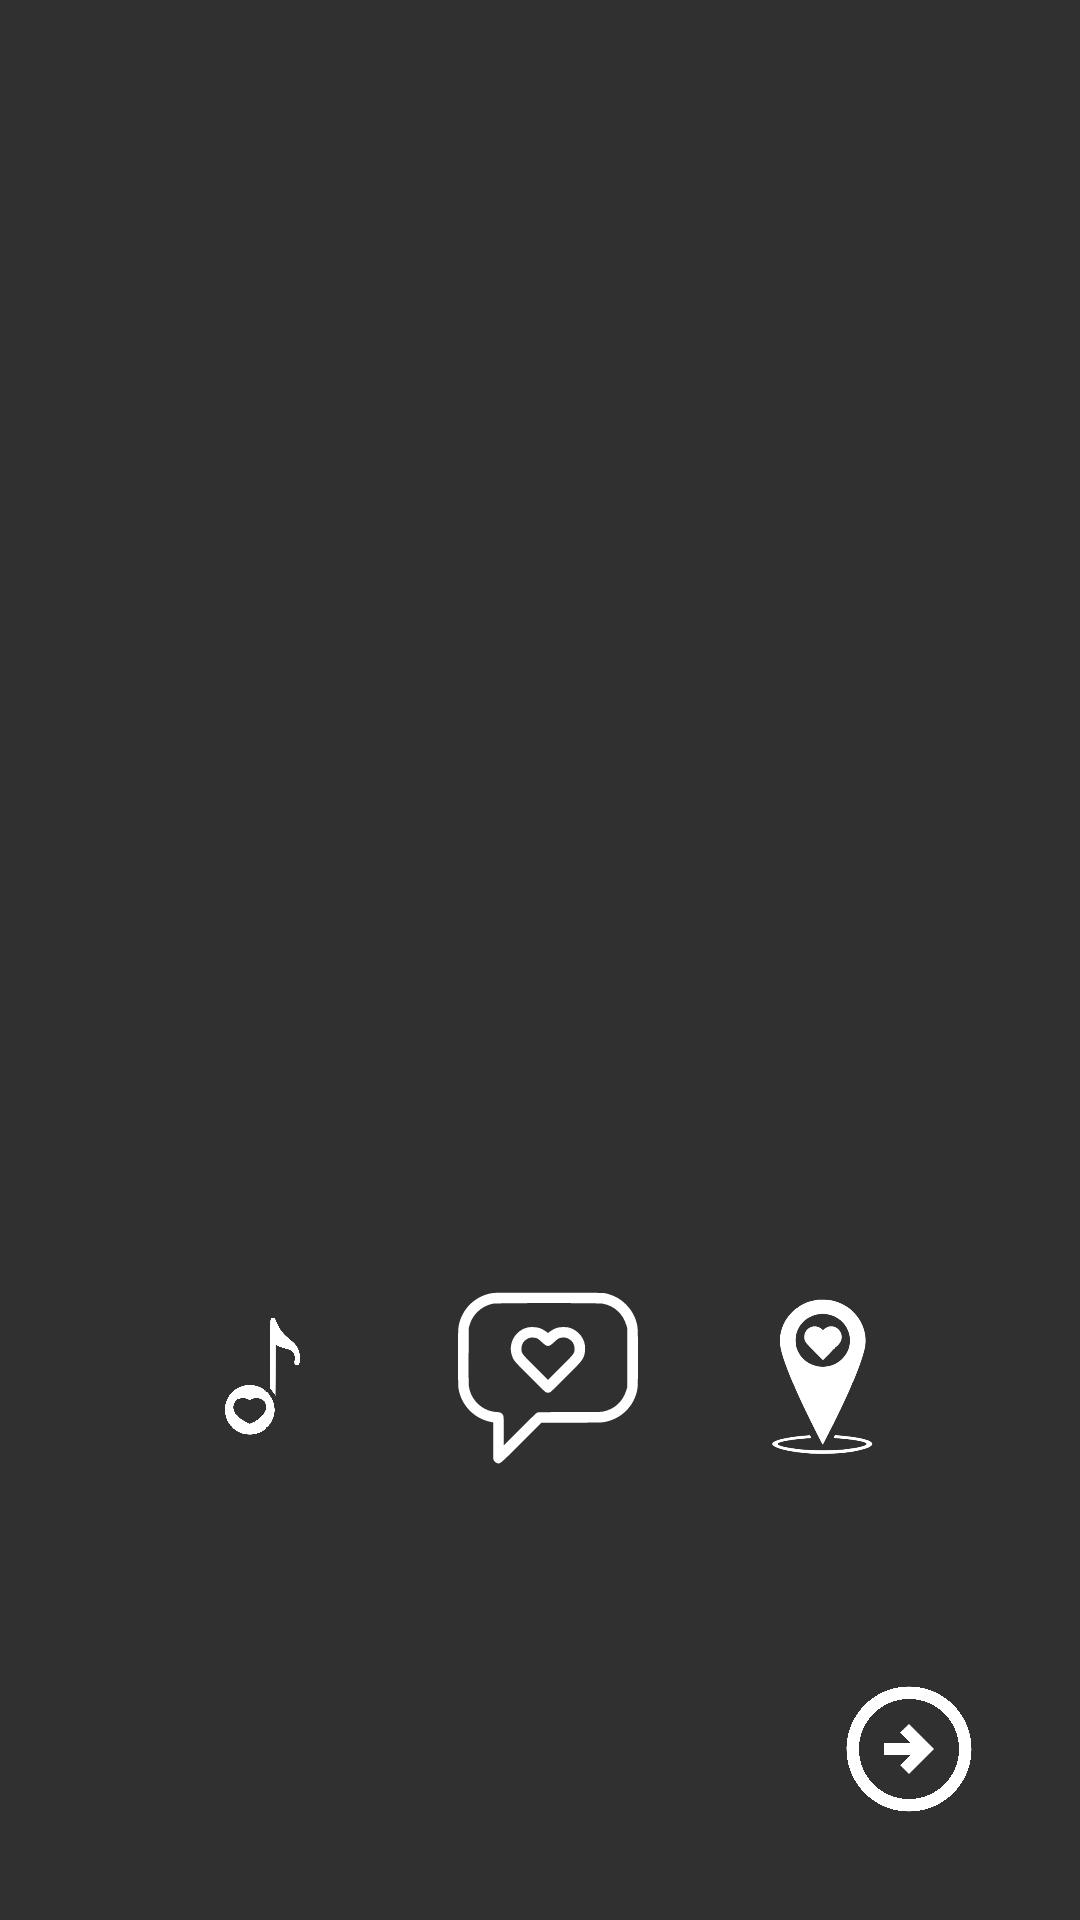

Icons on this 1080w x 1920h Android screen, each with its box as (x1, y1, x2, y2):
arrow circle right: (846, 1686, 972, 1812)
gostar: (458, 1292, 638, 1464)
mapa: (772, 1299, 873, 1454)
musica: (225, 1318, 300, 1435)
